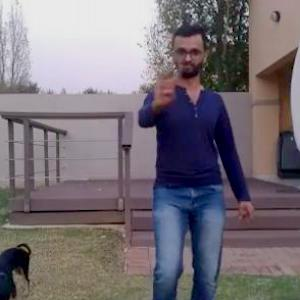takeoff-hand: (143, 66, 186, 112)
